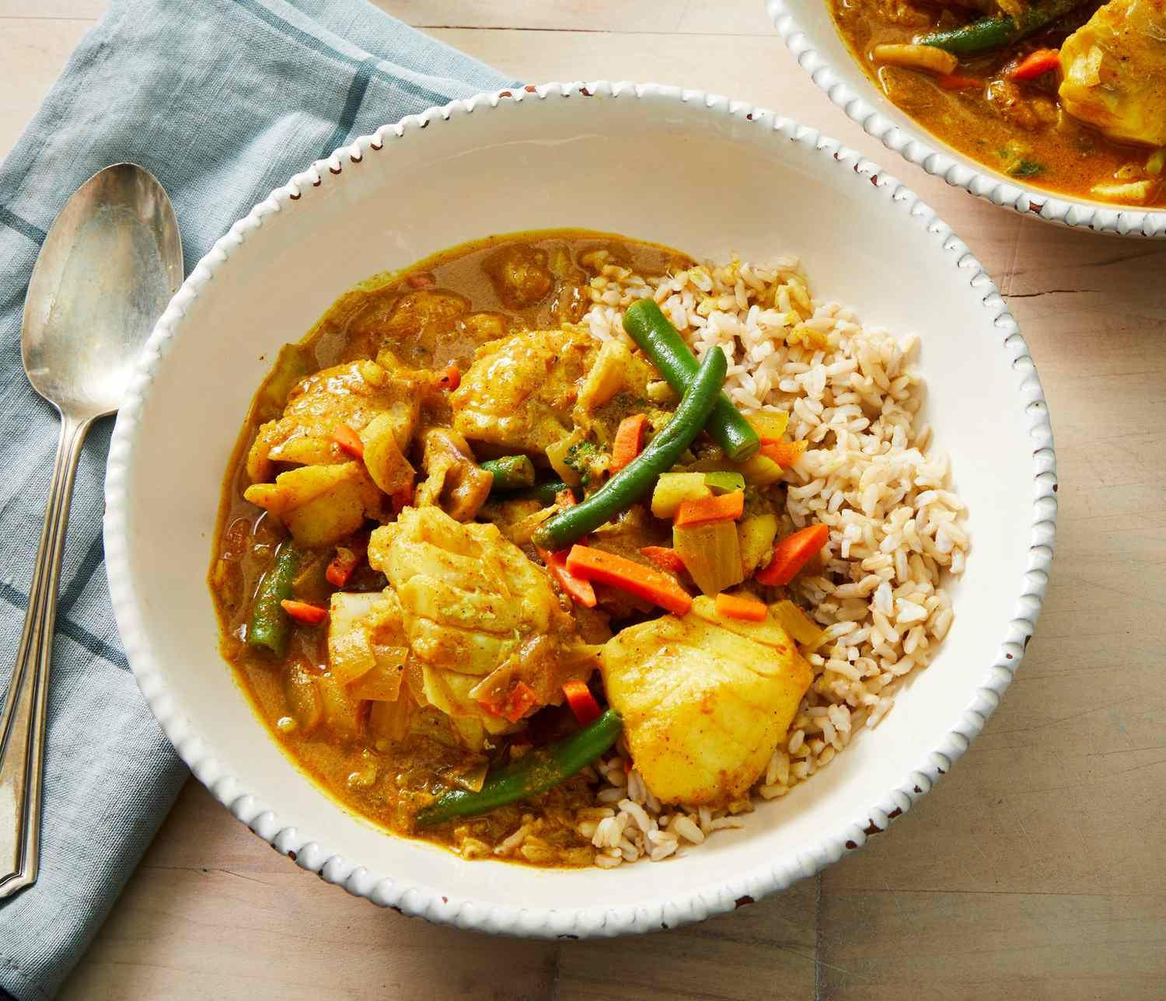FishCurry: (213, 229, 579, 874)
